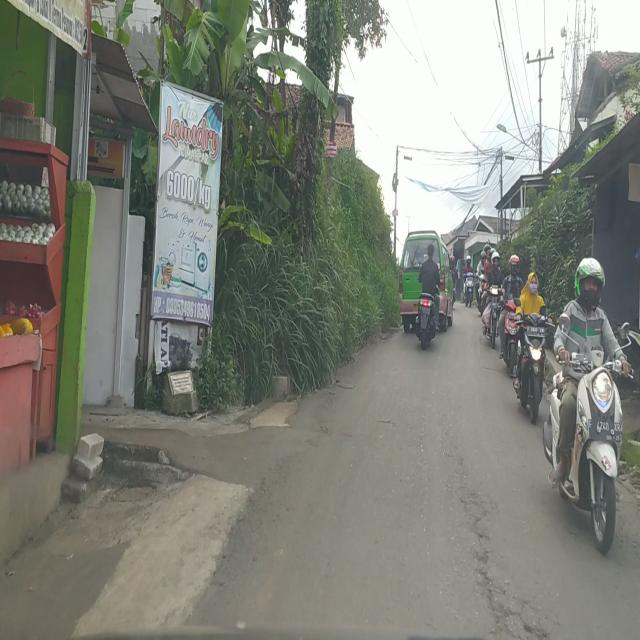Drain Hole: (459, 469, 546, 640)
